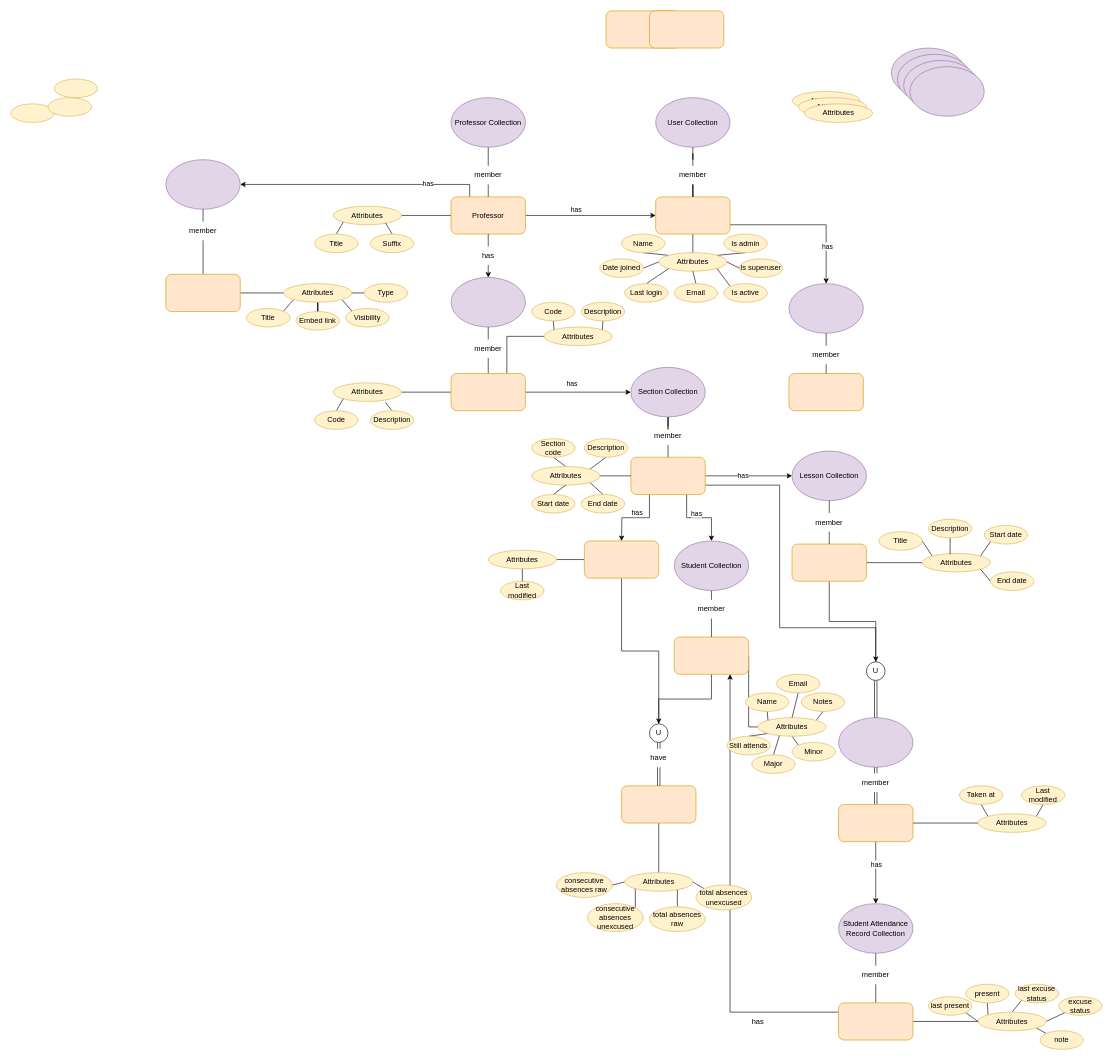
Image size: 1113x1060. Some labels were removed from this diagram. The centre of each missing label's shape, as x and y in pixels:
"Attendance Record" goes at point (875, 823).
"Attendance Record Collection" goes at point (875, 742).
"Course" goes at point (487, 392).
"Course Collection" goes at point (487, 302).
"Group (students, professors)" goes at point (825, 392).
"Group collection" goes at point (825, 308).
"Lesson" goes at point (828, 562).
"Meta Attendance Record" goes at point (621, 559).
"Meta Student Attendance Record" goes at point (658, 804).
"Playlist" goes at point (202, 293).
"Playlist Collection" goes at point (202, 184).
"Section" goes at point (667, 475).
"Student" goes at point (711, 655).
"Student Attendance Record" goes at point (875, 1021).
"User" goes at point (692, 215).
